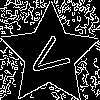V: (25, 30, 78, 83)
